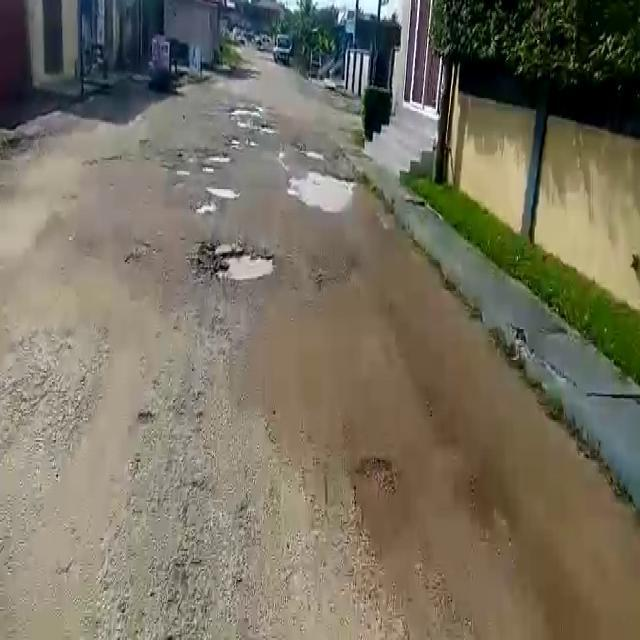pothole: (288, 168, 365, 212), (198, 241, 278, 281), (356, 454, 394, 492), (205, 182, 242, 198)
